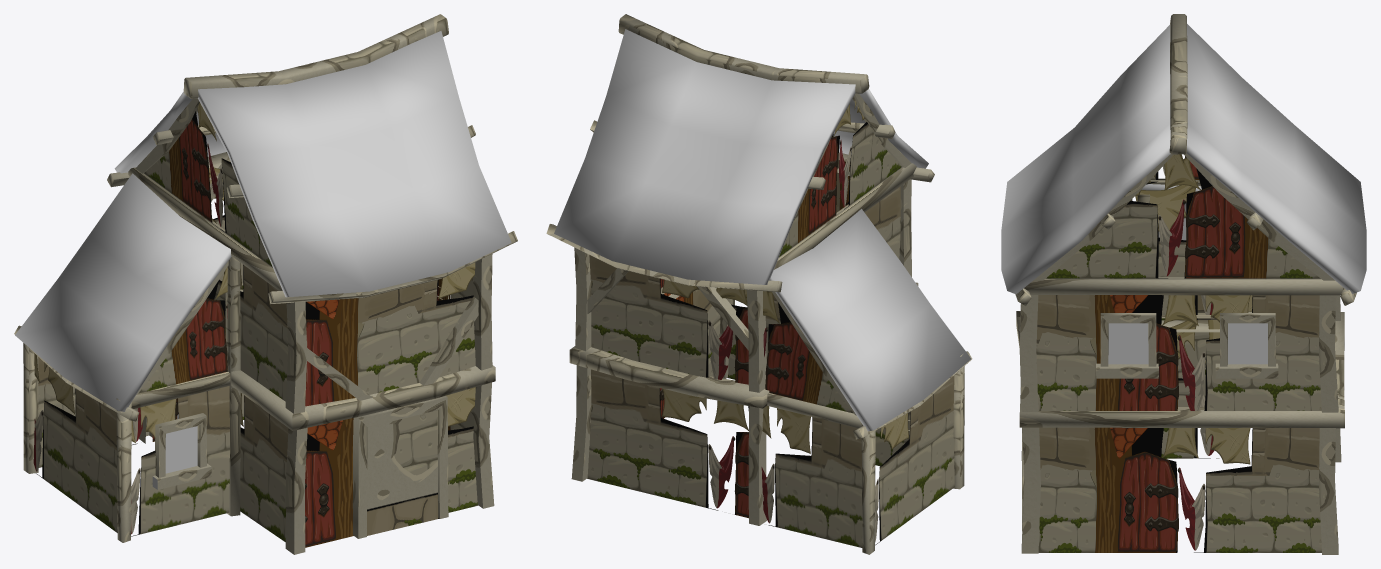
File: Farm_B.FBX
The picture shows the model from 3 angles, left to right: view 1: azimuth 30°, elevation 25°; view 2: azimuth 150°, elevation 25°; view 3: azimuth 270°, elevation 25°; orthographic projection. The views are drawn at different scales.
Visible parts, largest first — view 1: Farm_B; view 2: Farm_B; view 3: Farm_B.
Part boxes in pixels (x1,y1,x2,y2): Farm_B: (14, 14, 517, 554); Farm_B: (546, 14, 972, 554); Farm_B: (1001, 14, 1366, 554).
Bounding box in the file's own units: 6.43 × 7.55 × 5.77.
